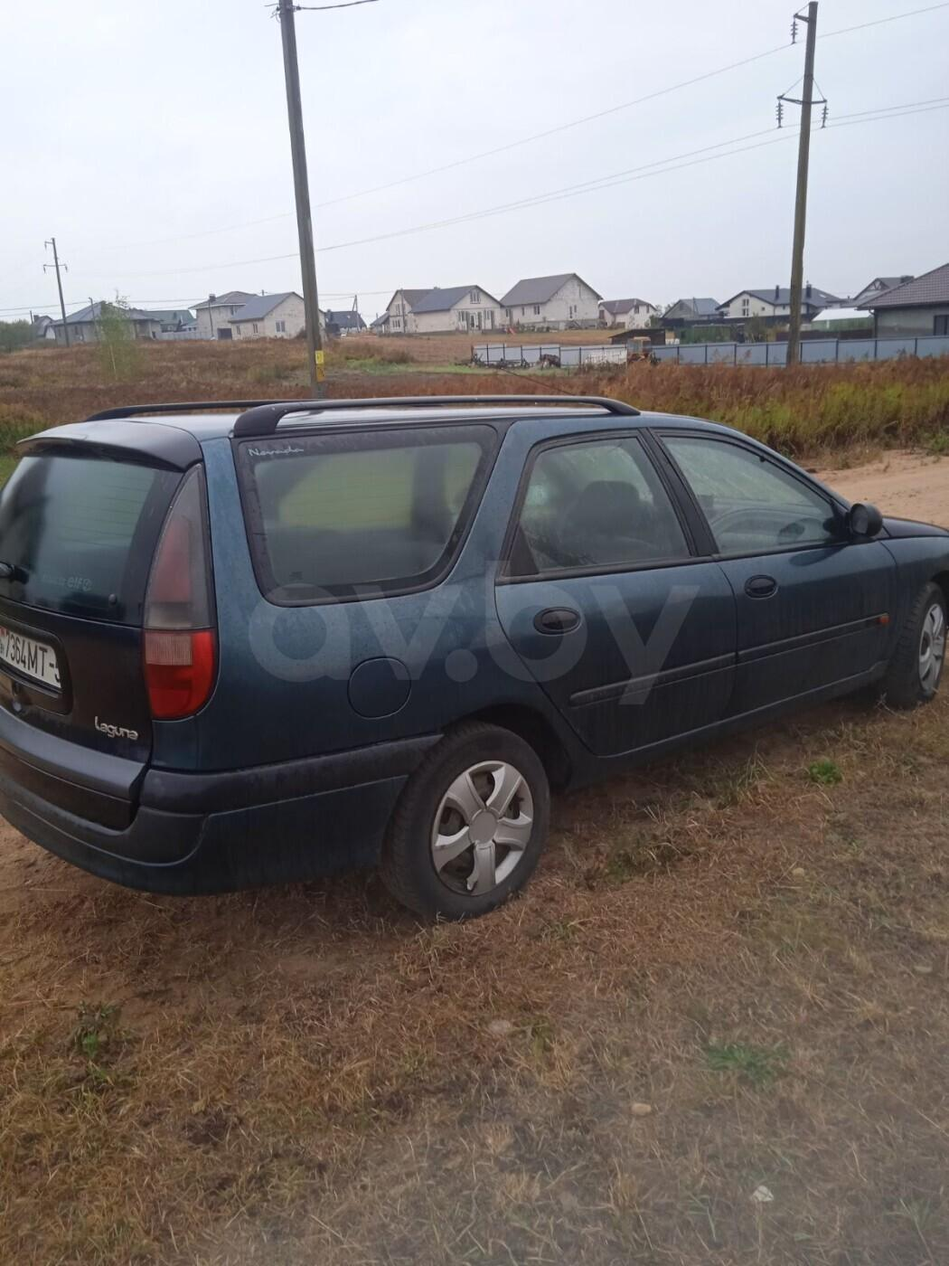Lahuna_1993-1999: (0, 394, 949, 919)
